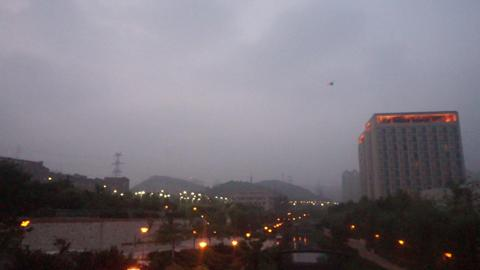UAV: (328, 81, 335, 87)
